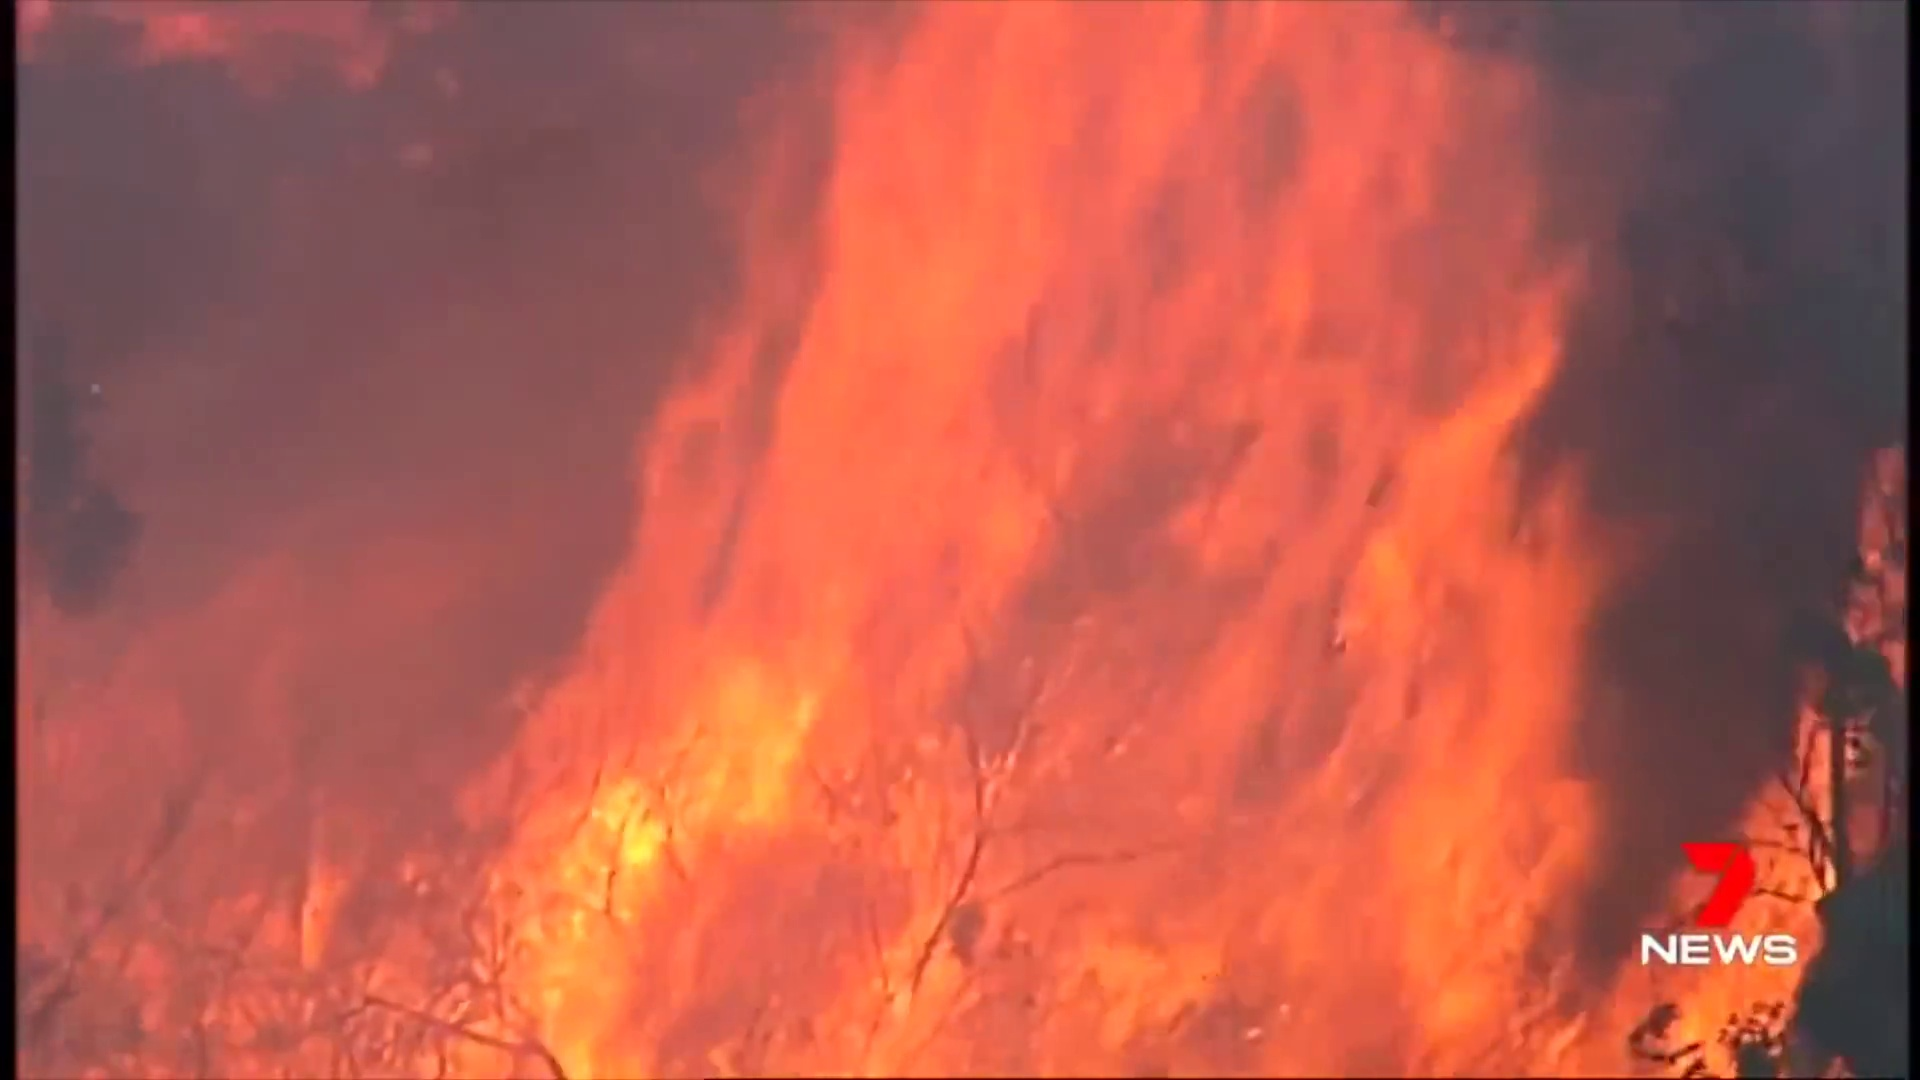fire: (402, 1, 1586, 1080)
